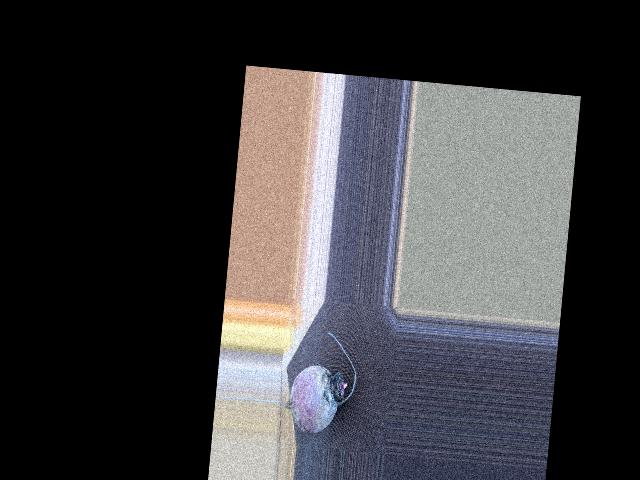beet: (275, 328, 360, 437)
